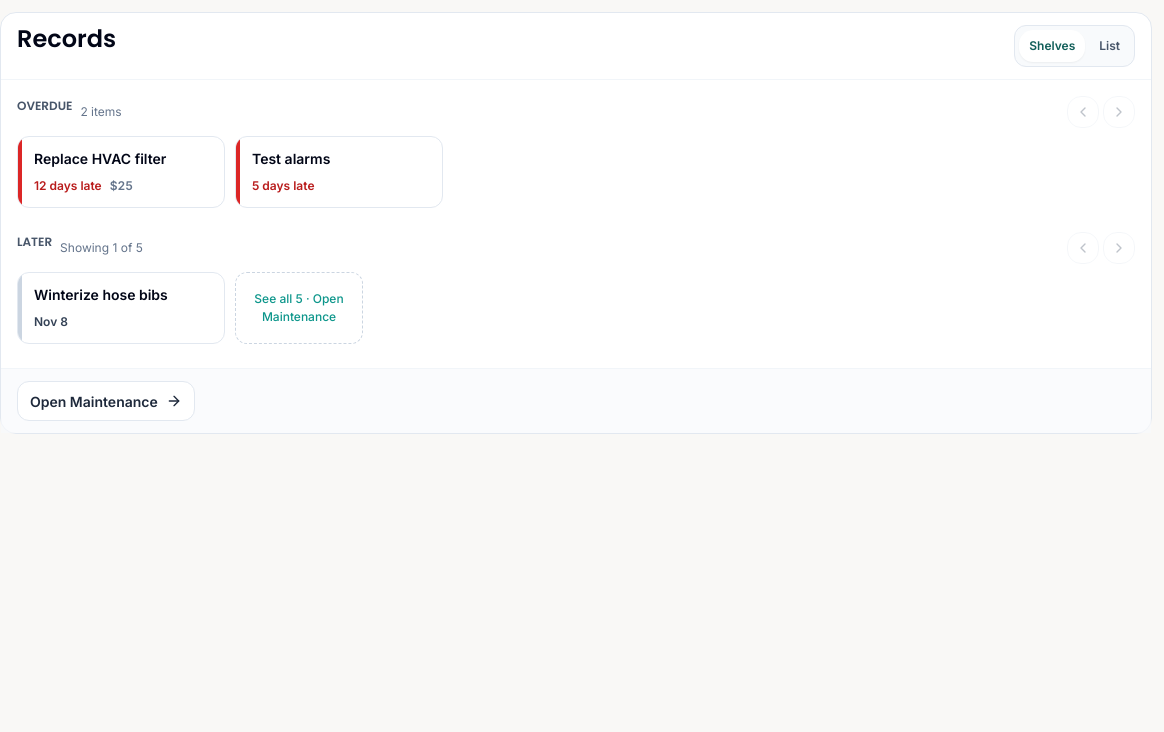
Scenario: shelves › a dense shelves fallback shows one view control and compact rows
Click the button "List" at x=1110, y=46, box [1089,30,1130,62]
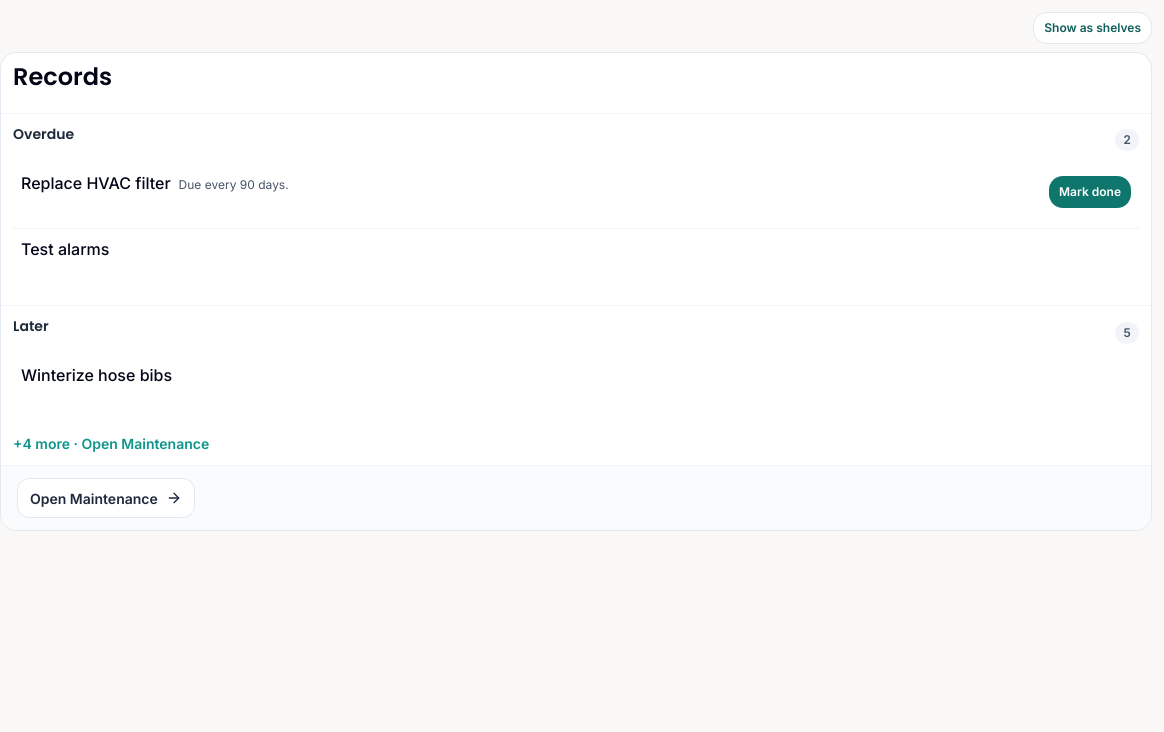
Result: the button "Show as shelves" is shown at [1033,12,1152,44]
Result: the element that starts with "Records" is shown
